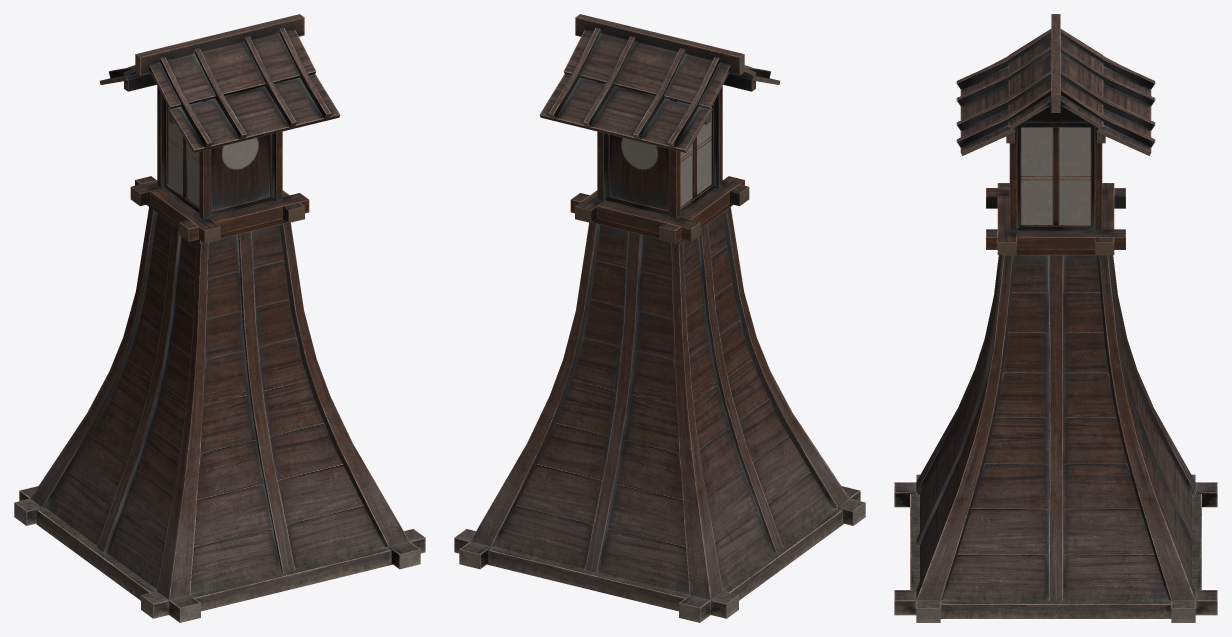
Rendered from Lamp_A_01.fbx.
3 renders of one model, left to right at view 1: azimuth 30°, elevation 25°; view 2: azimuth 150°, elevation 25°; view 3: azimuth 270°, elevation 25°, orthographic.
Visible parts, largest first — view 1: Lamp_A_01_LOD0, Lamp_A_01; view 2: Lamp_A_01, Lamp_A_01_LOD0; view 3: Lamp_A_01, Lamp_A_01_LOD0.
Part boxes in pixels (bbox=[...]): Lamp_A_01_LOD0: bbox=[14, 14, 399, 616]; Lamp_A_01: bbox=[14, 14, 425, 622]; Lamp_A_01: bbox=[454, 14, 865, 621]; Lamp_A_01_LOD0: bbox=[454, 14, 865, 622]; Lamp_A_01: bbox=[894, 14, 1217, 622]; Lamp_A_01_LOD0: bbox=[894, 14, 1217, 622].
Size of what is drawn, in the model's own units: 1.16 by 2.04 by 1.19.
